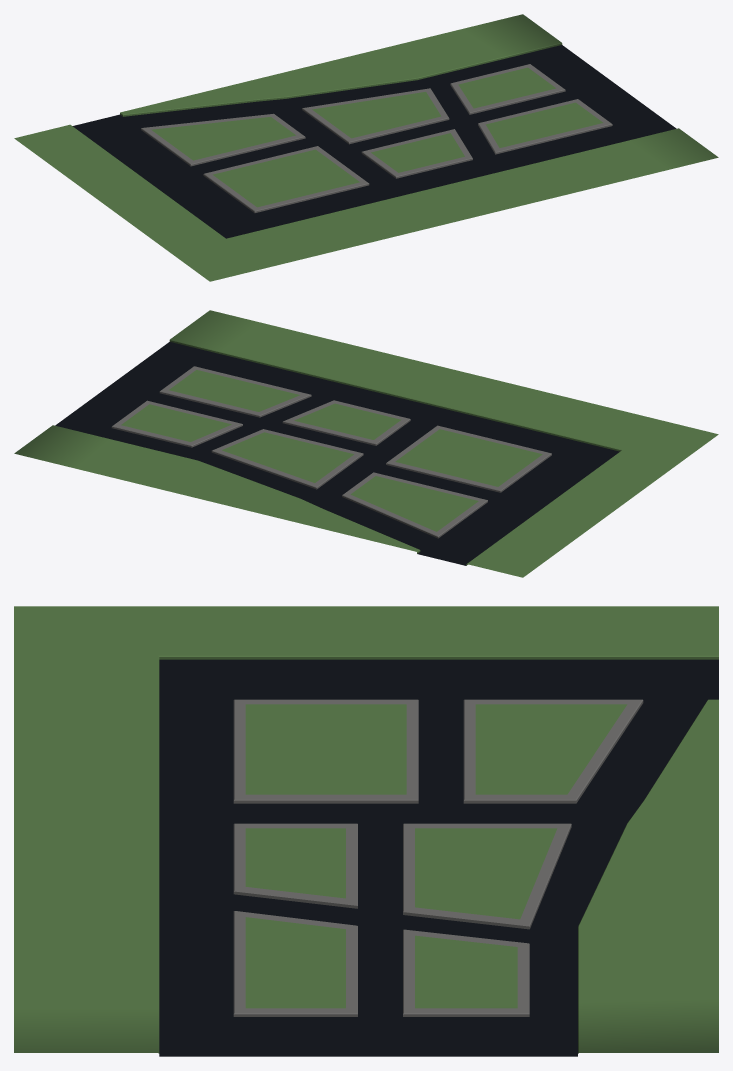
File: Map.fbx
3 views of the same model, one above another, from view 1: azimuth 30°, elevation 25°; view 2: azimuth 150°, elevation 25°; view 3: azimuth 270°, elevation 25° (orthographic). The views are drawn at different scales.
Parts seen in each view (by area): view 1: Plane.020; view 2: Plane.020; view 3: Plane.020.
Part boxes in pixels (box(x1,y1,x2,y2)): Plane.020: box(14, 14, 718, 281); Plane.020: box(14, 310, 718, 577); Plane.020: box(14, 606, 718, 1056).
Size of the model in its own units: 11023 by 42.23 by 7352.
